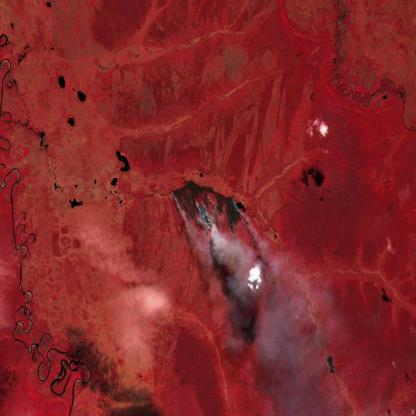fire: (169, 185, 247, 239)
